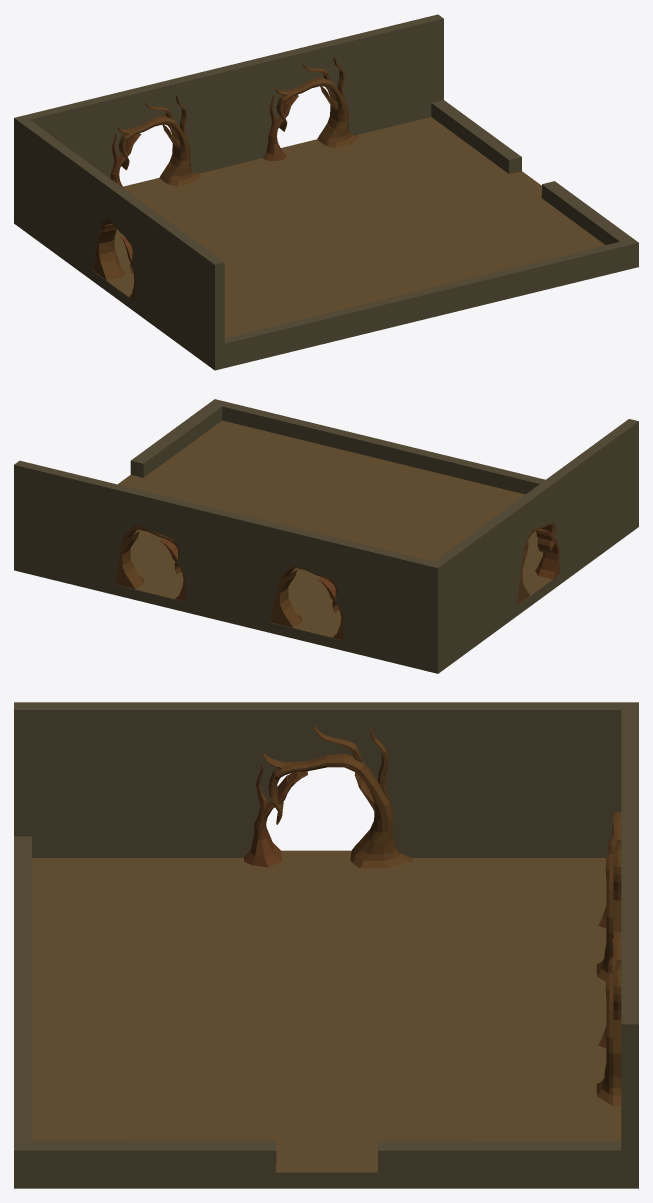
File: salaGrandeTresPuertasNaturaleza.fbx
3 views of the same model, one above another, from view 1: azimuth 30°, elevation 25°; view 2: azimuth 150°, elevation 25°; view 3: azimuth 270°, elevation 25° (orthographic). The views are drawn at different scales.
Visible parts, largest first — view 1: Cubo.023, Cubo.033, Cubo.026, Cubo.025, Cubo.024, ARBOL.014, ARBOL.013; view 2: Cubo.023, Cubo.033, Cubo.026, Cubo.025, ARBOL.012, Cubo.024; view 3: Cubo.033, Cubo.023, Cubo.024, Cubo.026, Cubo.025, ARBOL.012.
Part boxes in pixels (x1=…): Cubo.023: x1=14, y1=14, x2=638, y2=370; Cubo.033: x1=93, y1=117, x2=605, y2=337; Cubo.026: x1=274, y1=57, x2=358, y2=147; Cubo.025: x1=116, y1=96, x2=200, y2=186; Cubo.024: x1=93, y1=217, x2=133, y2=280; ARBOL.014: x1=263, y1=94, x2=298, y2=160; ARBOL.013: x1=110, y1=133, x2=141, y2=188; Cubo.023: x1=14, y1=399, x2=638, y2=673; Cubo.033: x1=115, y1=420, x2=558, y2=640; Cubo.026: x1=114, y1=524, x2=181, y2=589; Cubo.025: x1=270, y1=565, x2=339, y2=627; ARBOL.012: x1=535, y1=528, x2=559, y2=579; Cubo.024: x1=517, y1=522, x2=556, y2=604; Cubo.033: x1=32, y1=850, x2=621, y2=1172; Cubo.023: x1=14, y1=702, x2=638, y2=1188; Cubo.024: x1=263, y1=725, x2=412, y2=868; Cubo.026: x1=596, y1=932, x2=621, y2=1106; Cubo.025: x1=596, y1=812, x2=621, y2=981; ARBOL.012: x1=244, y1=764, x2=307, y2=867.
Bounding box in the file's own units: 2560 × 609 × 2100.
